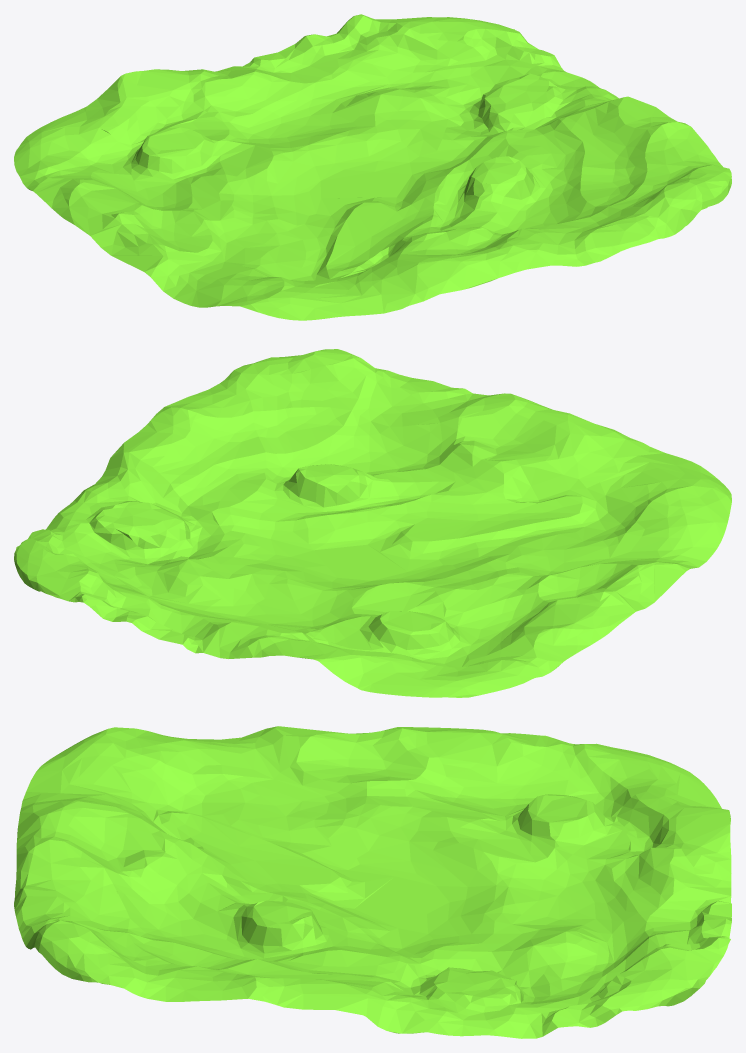
The model's file is terrain7.fbx.
The picture shows the model from 3 angles, top to bottom: view 1: azimuth 30°, elevation 25°; view 2: azimuth 150°, elevation 25°; view 3: azimuth 270°, elevation 25°; orthographic projection. The views are drawn at different scales.
Parts seen in each view (by area): view 1: terrain7; view 2: terrain7; view 3: terrain7.
Part boxes in pixels (bbox=[...]): terrain7: bbox=[14, 14, 731, 320]; terrain7: bbox=[14, 349, 731, 697]; terrain7: bbox=[14, 726, 731, 1038].
Bounding box in the file's own units: 64.37 × 6.88 × 64.29.
